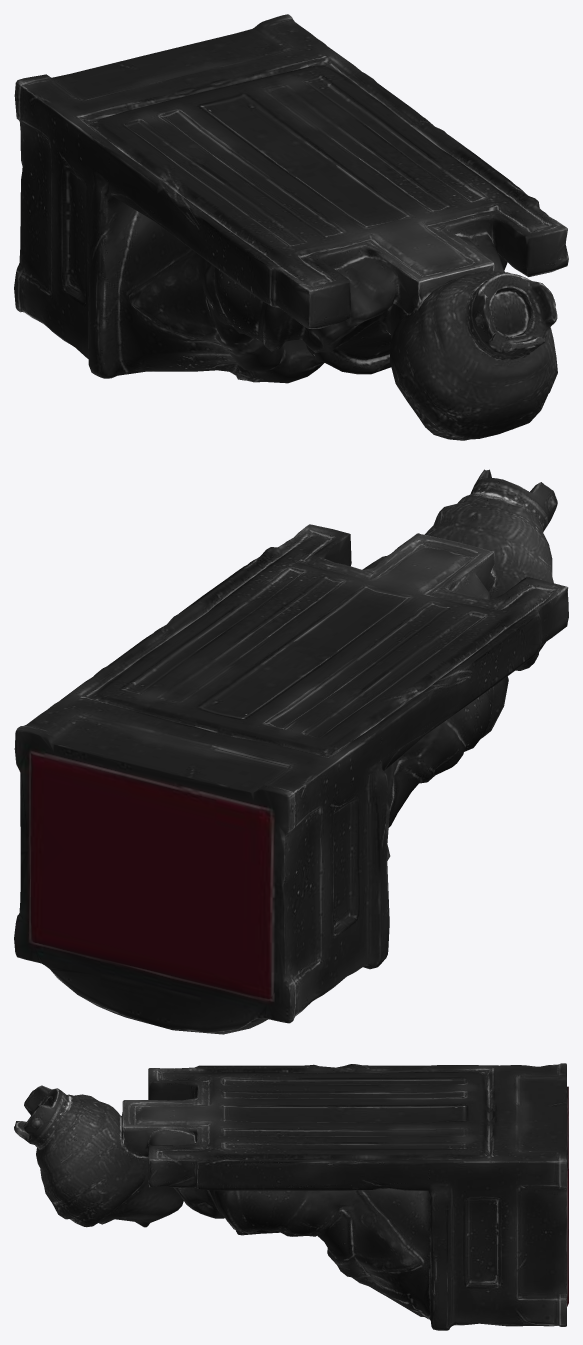
Rendered from model_small.obj.
The picture shows the model from 3 angles, top to bottom: view 1: azimuth 30°, elevation 25°; view 2: azimuth 150°, elevation 25°; view 3: azimuth 270°, elevation 25°; orthographic projection. The views are drawn at different scales.
Parts seen in each view (by area): view 1: mmGroup0; view 2: mmGroup0; view 3: mmGroup0.
Boxes of the visible parts, bbox=[...] form: mmGroup0: bbox=[14, 14, 568, 440]; mmGroup0: bbox=[14, 469, 568, 1034]; mmGroup0: bbox=[14, 1063, 568, 1330].
Size of the model in its own units: 4.86 by 4.68 by 10.9.
1 material, 1 textured.
